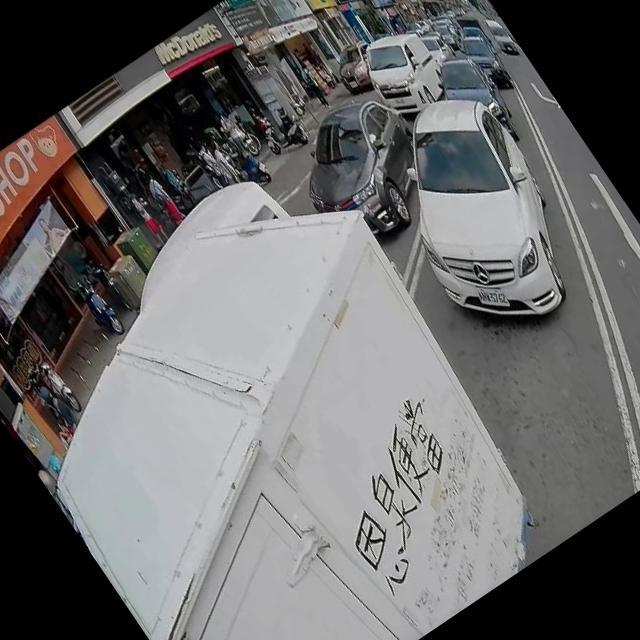person: (138, 167, 188, 230), (122, 183, 171, 247), (33, 376, 81, 435), (213, 107, 256, 163), (204, 136, 248, 190), (192, 142, 232, 191), (296, 63, 330, 109), (126, 158, 154, 190)
